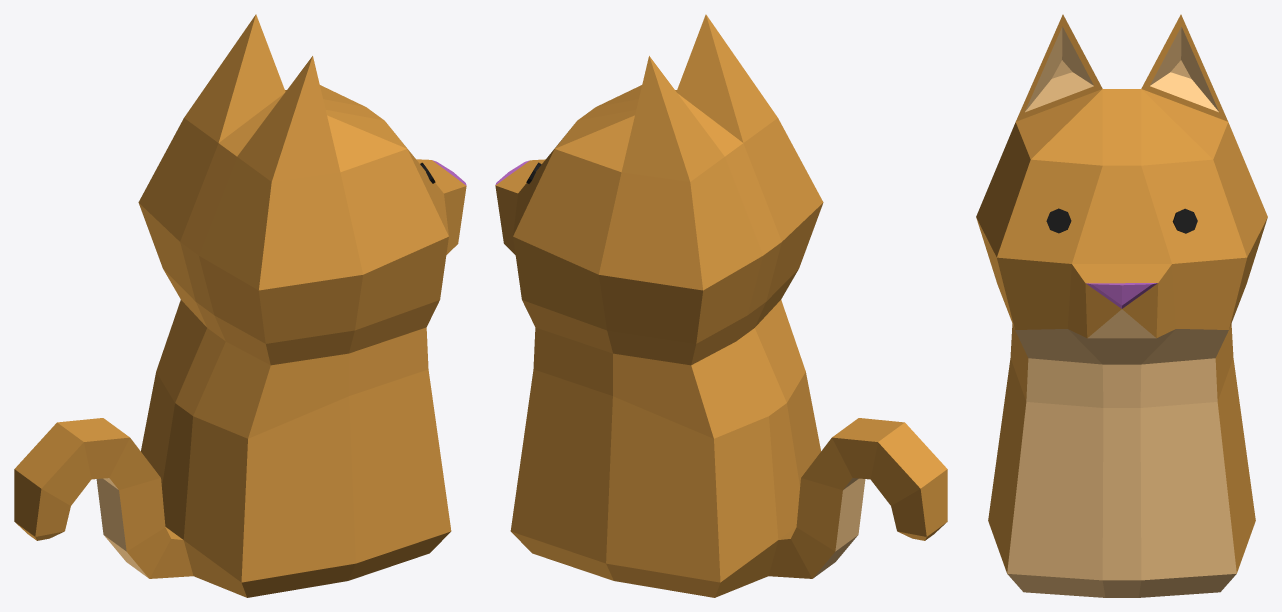
Rendered from Kitten.glb.
3 renders of one model, left to right at view 1: azimuth 30°, elevation 25°; view 2: azimuth 150°, elevation 25°; view 3: azimuth 270°, elevation 25°, orthographic. The views are drawn at different scales.
Visible parts, largest first — view 1: Kitten_Cube.030; view 2: Kitten_Cube.030; view 3: Kitten_Cube.030.
Part boxes in pixels (x1,y1,x2,y2): Kitten_Cube.030: (14,14,466,597); Kitten_Cube.030: (495,14,947,597); Kitten_Cube.030: (976,14,1267,597).
Bounding box in the file's own units: 8.72 × 9.88 × 4.95.
